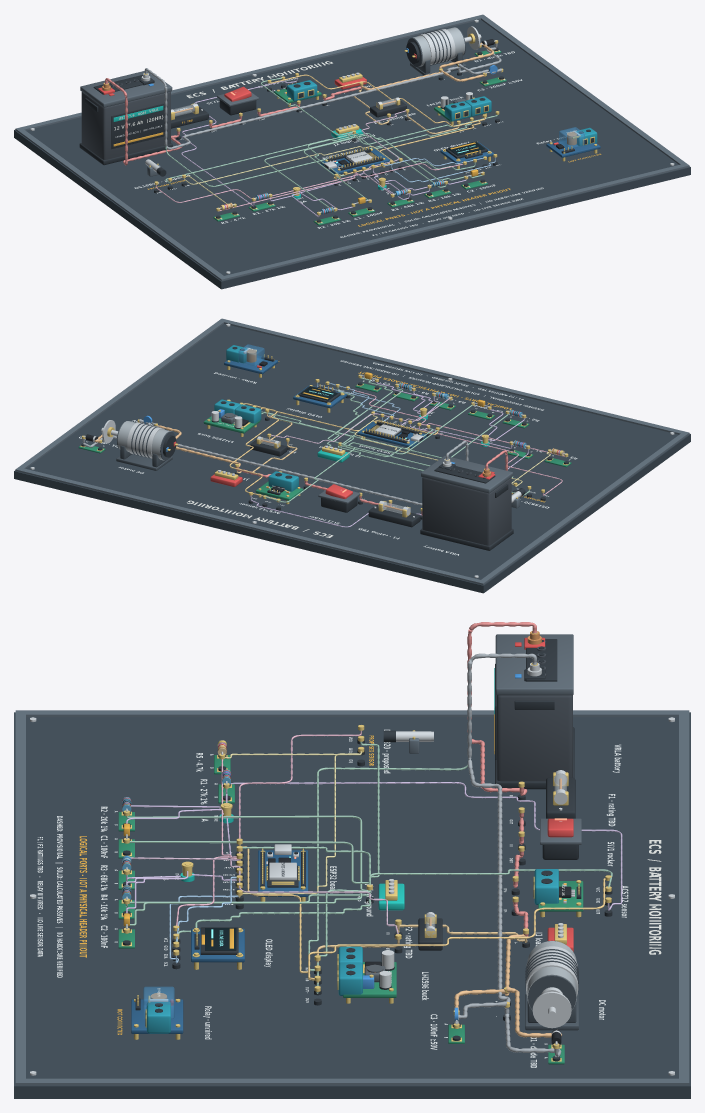
The model's file is ecs-battery-assembly.glb.
3 views of the same model, one above another, from view 1: azimuth 30°, elevation 25°; view 2: azimuth 150°, elevation 25°; view 3: azimuth 270°, elevation 25° (orthographic). The views are drawn at different scales.
Visible parts, largest first — view 1: Assembly_Base_Tray, Battery_battery_ECS_Battery_Deep_Charcoal, Assembly_Frame_Rail_Y_-3.82, Battery_battery_ECS_Graphite, Assembly_Frame_Rail_Y_3.82, Assembly_Frame_Rail_X_-5.02, Assembly_Frame_Rail_X_5.02, Battery_battery_ECS_Battery_Lid, Wire_W06, DC_motor_ECS_Brushed_Silver, DC_motor_ECS_Motor_Dark_Cap, LM2596_lm2596_ECS_Terminal_Teal (+7 smaller); view 2: Assembly_Base_Tray, Battery_battery_ECS_Battery_Deep_Charcoal, Assembly_Frame_Rail_Y_3.82, Assembly_Frame_Rail_Y_-3.82, Assembly_Frame_Rail_X_-5.02, Assembly_Frame_Rail_X_5.02, Battery_battery_ECS_Battery_Lid, Battery_battery_ECS_Graphite, DC_motor_ECS_Motor_Dark_Cap, DC_motor_ECS_Brushed_Silver, Wire_W06, Fuse_fuse_ECS_Graphite (+6 smaller); view 3: Assembly_Base_Tray, Battery_battery_ECS_Battery_Deep_Charcoal, Assembly_Frame_Rail_X_5.02, Assembly_Frame_Rail_X_-5.02, Assembly_Frame_Rail_Y_-3.82, Assembly_Frame_Rail_Y_3.82, Battery_battery_ECS_Battery_Lid, DC_motor_ECS_Brushed_Silver, Wire_W06, DC_motor_ECS_Motor_Dark_Cap, Battery_battery_ECS_Graphite, LM2596_lm2596_ECS_Terminal_Teal (+19 smaller).
Boxes of the visible parts, box(x1,y1,x2,y2) form: Assembly_Base_Tray: box(14, 20, 690, 289); Battery_battery_ECS_Battery_Deep_Charcoal: box(81, 79, 170, 159); Assembly_Frame_Rail_Y_-3.82: box(218, 163, 689, 280); Battery_battery_ECS_Graphite: box(79, 75, 172, 165); Assembly_Frame_Rail_Y_3.82: box(15, 14, 485, 131); Assembly_Frame_Rail_X_-5.02: box(17, 129, 224, 278); Assembly_Frame_Rail_X_5.02: box(480, 16, 685, 164); Battery_battery_ECS_Battery_Lid: box(80, 71, 172, 107); Wire_W06: box(144, 66, 459, 149); DC_motor_ECS_Brushed_Silver: box(418, 26, 481, 64); DC_motor_ECS_Motor_Dark_Cap: box(407, 28, 466, 75); LM2596_lm2596_ECS_Terminal_Teal: box(444, 96, 491, 121); Assembly_Base_Tray: box(14, 324, 690, 593); Battery_battery_ECS_Battery_Deep_Charcoal: box(422, 467, 511, 545); Assembly_Frame_Rail_Y_3.82: box(15, 467, 486, 584); Assembly_Frame_Rail_Y_-3.82: box(219, 318, 689, 435); Assembly_Frame_Rail_X_-5.02: box(480, 433, 687, 582); Assembly_Frame_Rail_X_5.02: box(19, 320, 224, 468); Battery_battery_ECS_Battery_Lid: box(421, 455, 512, 493); Battery_battery_ECS_Graphite: box(420, 463, 513, 550); DC_motor_ECS_Motor_Dark_Cap: box(116, 421, 175, 470); DC_motor_ECS_Brushed_Silver: box(101, 420, 164, 458); Wire_W06: box(176, 440, 468, 505); Fuse_fuse_ECS_Graphite: box(368, 504, 422, 527); Assembly_Base_Tray: box(14, 712, 690, 1098); Battery_battery_ECS_Battery_Deep_Charcoal: box(496, 640, 572, 781); Assembly_Frame_Rail_X_5.02: box(23, 1078, 682, 1085); Assembly_Frame_Rail_X_-5.02: box(23, 710, 682, 717); Assembly_Frame_Rail_Y_-3.82: box(15, 710, 25, 1085); Assembly_Frame_Rail_Y_3.82: box(679, 710, 689, 1085); Battery_battery_ECS_Battery_Lid: box(495, 634, 573, 695); DC_motor_ECS_Brushed_Silver: box(526, 946, 578, 1028); Wire_W06: box(467, 653, 537, 1008); DC_motor_ECS_Motor_Dark_Cap: box(525, 940, 578, 1030); Battery_battery_ECS_Graphite: box(495, 639, 574, 789); LM2596_lm2596_ECS_Terminal_Teal: box(338, 946, 362, 995).
Size of the model in its own units: 10.2 by 1.76 by 7.8.
